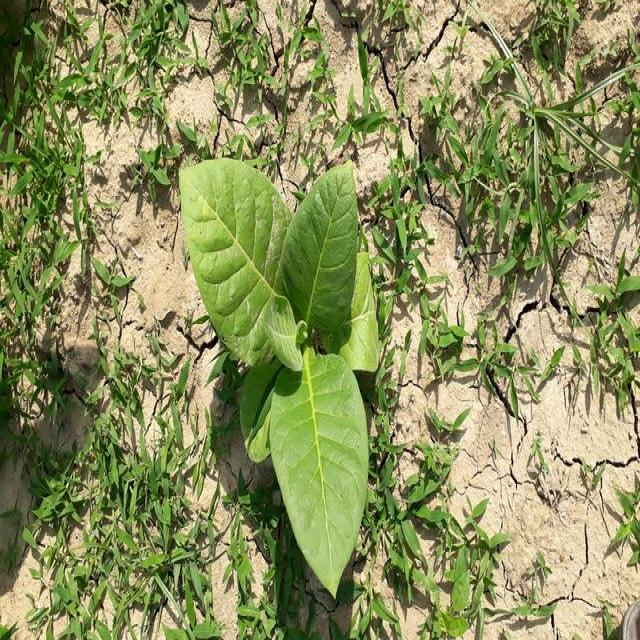crop: (183, 159, 400, 594)
